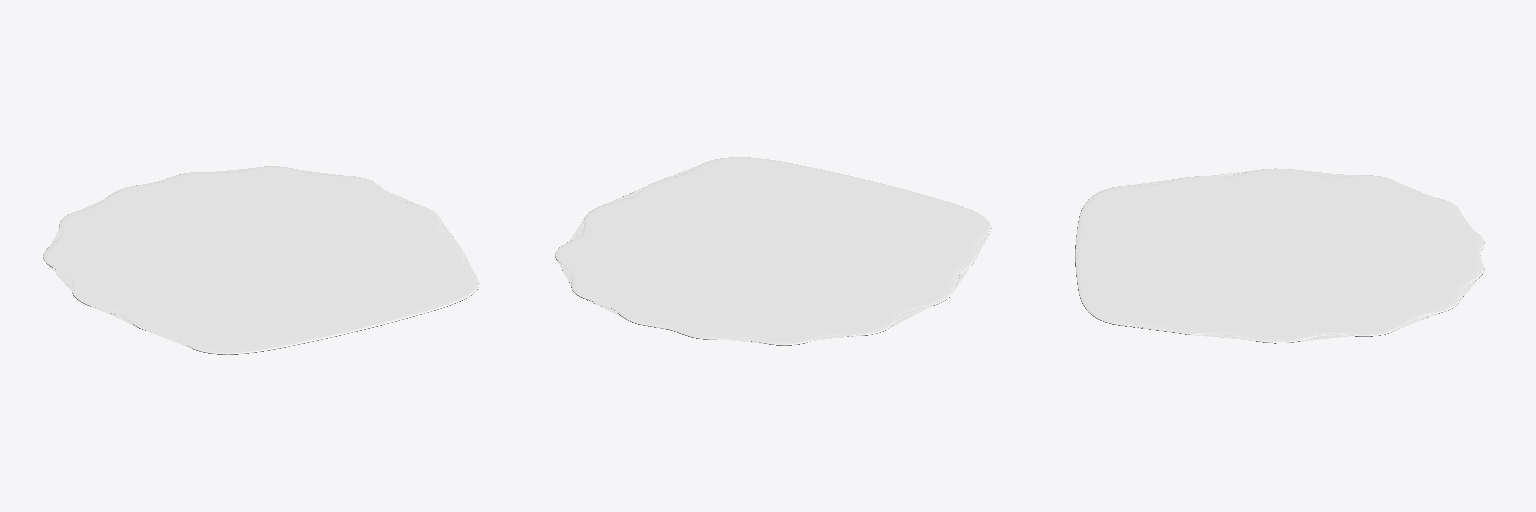
Rendered from uchiwafan03.obj.
The picture shows the model from 3 angles: view 1: azimuth 30°, elevation 25°; view 2: azimuth 150°, elevation 25°; view 3: azimuth 270°, elevation 25°; orthographic projection.
Visible parts, largest first — view 1: juhf3_fan, juhf3_handle; view 2: juhf3_fan, juhf3_handle; view 3: juhf3_fan, juhf3_handle.
Part boxes in pixels (bbox=[...]): juhf3_fan: bbox=[43, 166, 479, 354]; juhf3_handle: bbox=[47, 166, 477, 353]; juhf3_fan: bbox=[555, 157, 991, 345]; juhf3_handle: bbox=[557, 163, 989, 345]; juhf3_fan: bbox=[1075, 169, 1484, 343]; juhf3_handle: bbox=[1076, 168, 1482, 342].
Size of the model in its own units: 20.37 by 0.1 by 20.23.